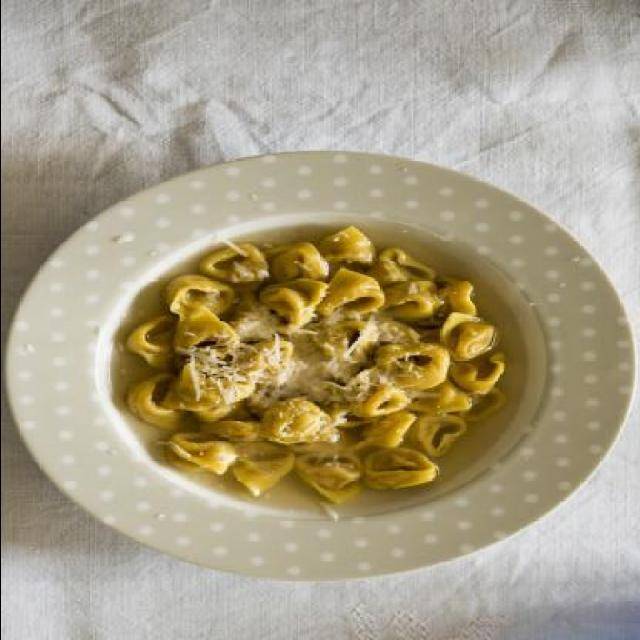Tortellini in broth: (126, 232, 494, 508)
